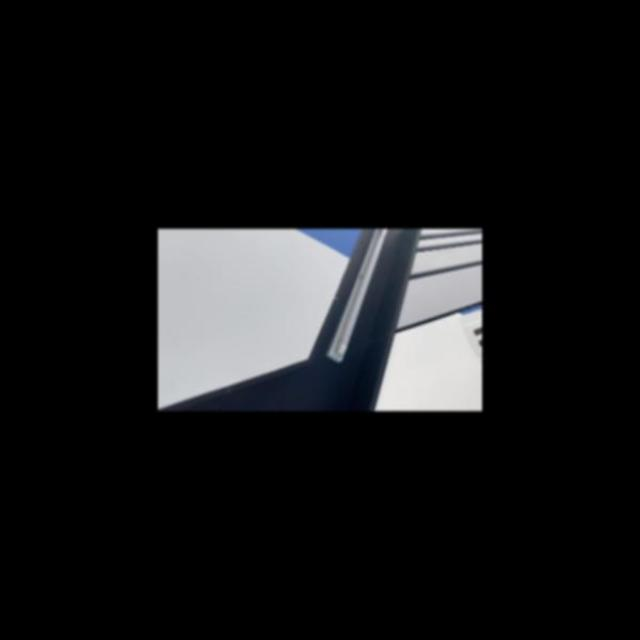Straight-Tube-Fluorescent-Lamp: (322, 230, 392, 368)
